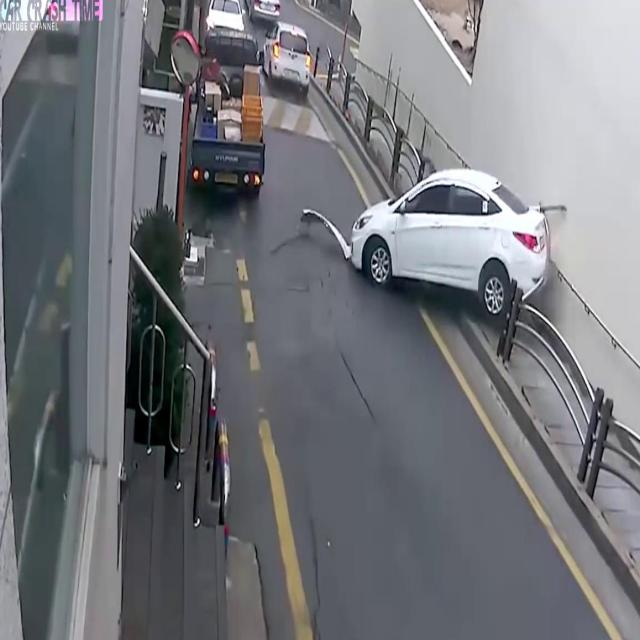accident: (295, 156, 574, 324)
non_accident: (182, 0, 314, 210)
